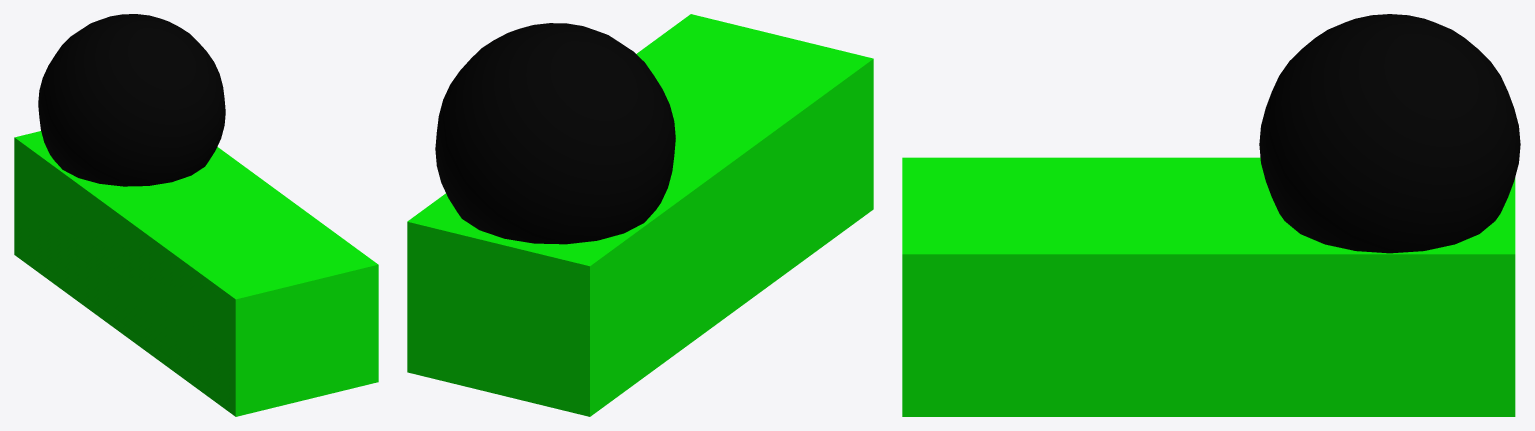
The model's file is foot2.obj.
The picture shows the model from 3 angles, left to right: view 1: azimuth 30°, elevation 25°; view 2: azimuth 150°, elevation 25°; view 3: azimuth 270°, elevation 25°; orthographic projection. The views are drawn at different scales.
Visible parts, largest first — view 1: pCube30 polySurface6, polySurface11 pCube30; view 2: pCube30 polySurface6, polySurface11 pCube30; view 3: pCube30 polySurface6, polySurface11 pCube30.
Part boxes in pixels (x1,y1,x2,y2): pCube30 polySurface6: (14, 131, 378, 416); polySurface11 pCube30: (38, 14, 225, 186); pCube30 polySurface6: (407, 14, 873, 416); polySurface11 pCube30: (435, 23, 675, 244); pCube30 polySurface6: (902, 157, 1515, 416); polySurface11 pCube30: (1259, 14, 1520, 253).
Size of the model in its own units: 0.9387 by 1.36 by 2.22.
